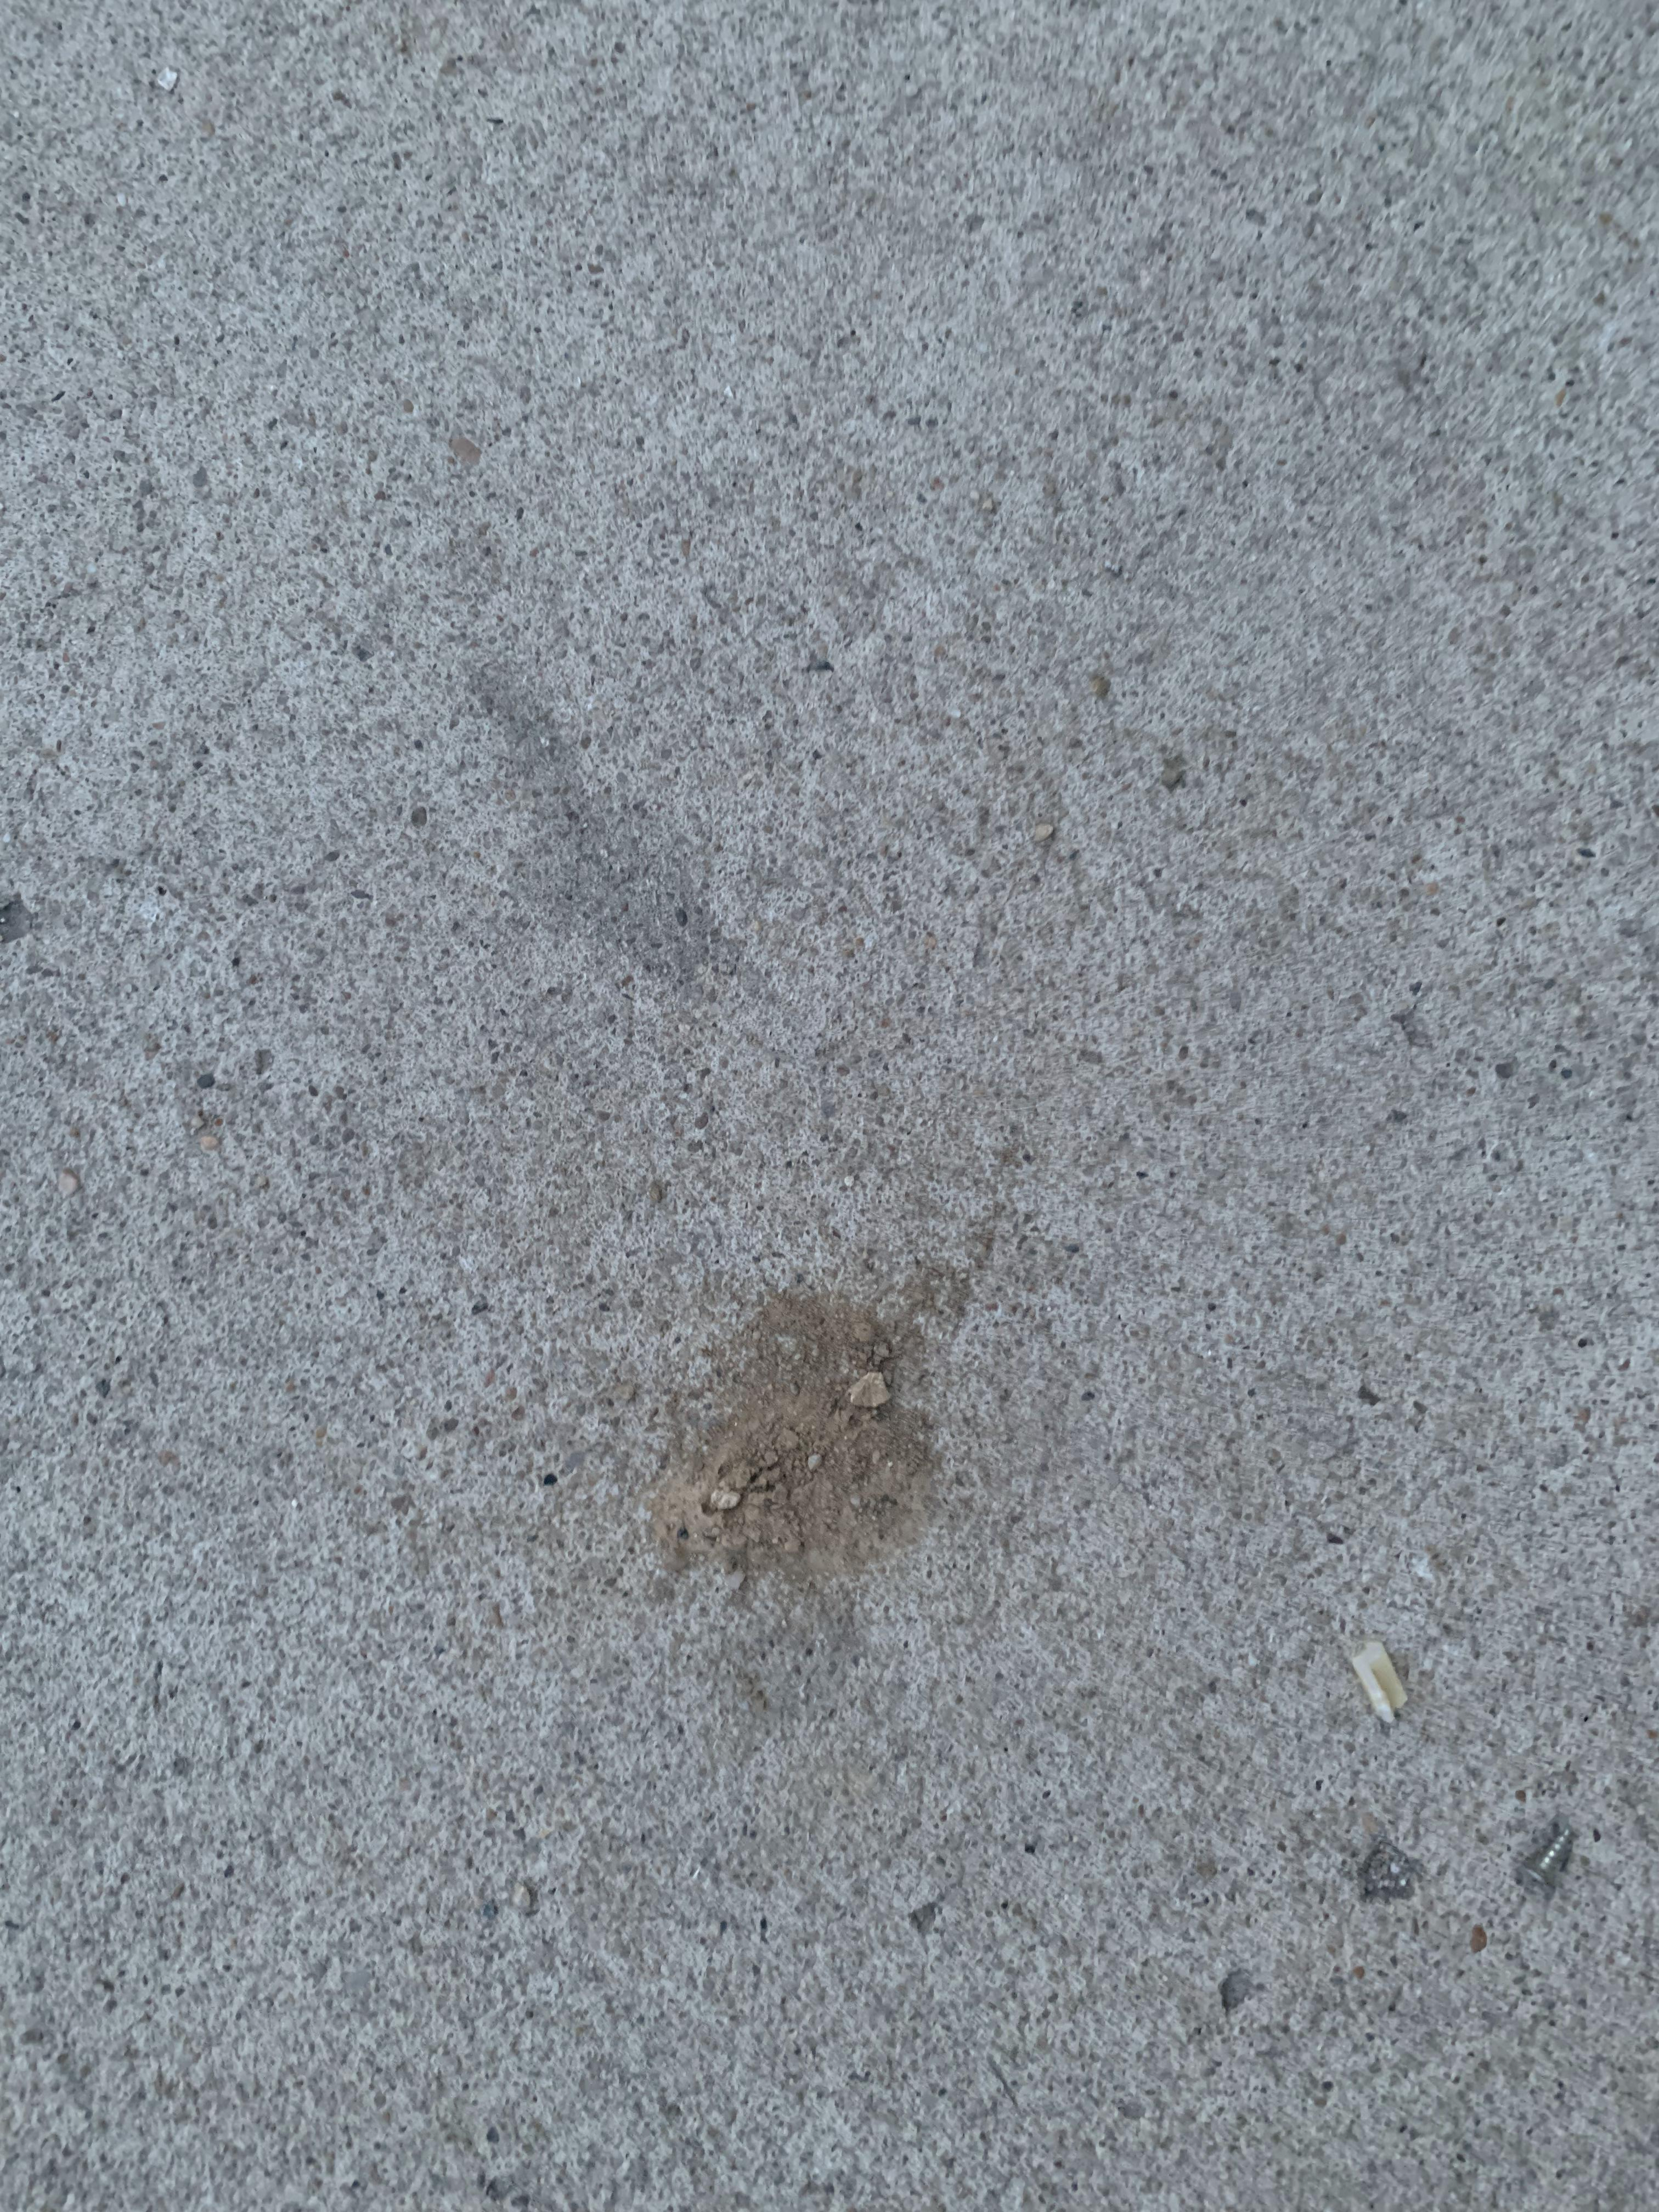ash pile: (648, 1282, 945, 1566)
